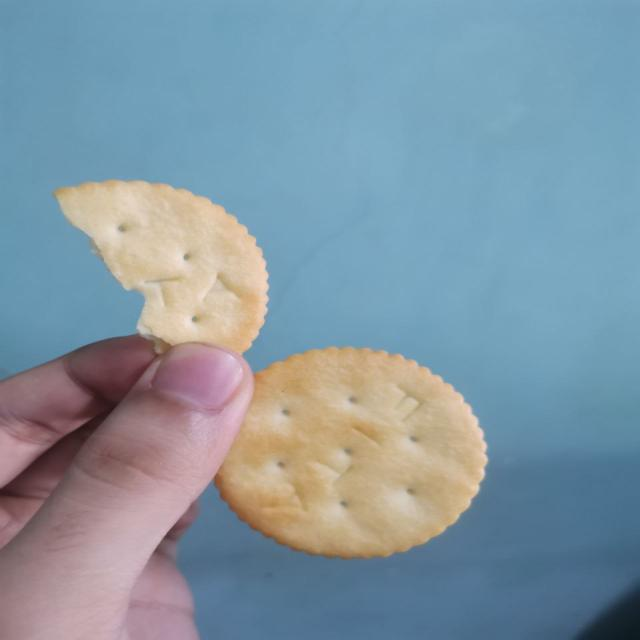broken biscuit: (22, 157, 270, 361)
intact biscuit: (212, 344, 489, 560)
